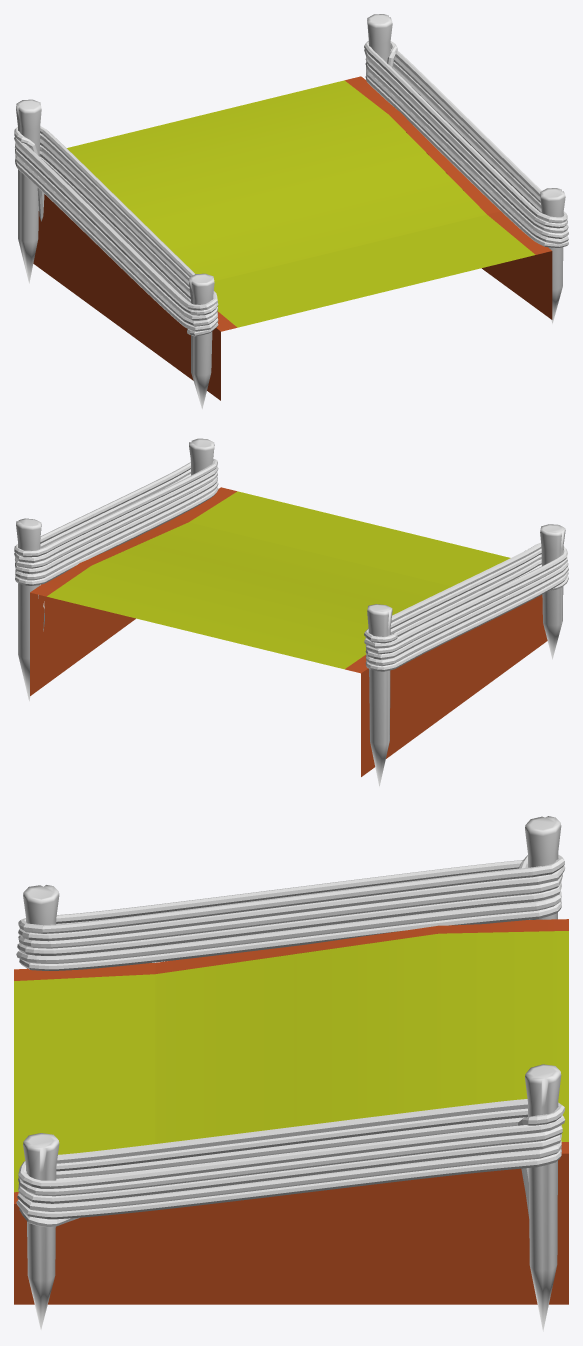
File: Straight_Up_Begin_End02.fbx
3 renders of one model, top to bottom at view 1: azimuth 30°, elevation 25°; view 2: azimuth 150°, elevation 25°; view 3: azimuth 270°, elevation 25°, orthographic. The views are drawn at different scales.
Visible parts, largest first — view 1: Cube.008, Cube.005, Cube.004, Cube.007; view 2: Cube.008, Cube.005, Cube.004, Cube.007; view 3: Cube.008, Cube.007, Cube.005, Cube.004.
Part boxes in pixels (x1,y1,x2,y2): Cube.008: [33, 76, 503, 364]; Cube.005: [172, 211, 552, 400]; Cube.004: [14, 99, 218, 409]; Cube.007: [364, 14, 568, 323]; Cube.008: [30, 519, 503, 776]; Cube.005: [174, 487, 547, 672]; Cube.004: [364, 524, 568, 786]; Cube.007: [14, 438, 218, 701]; Cube.008: [155, 919, 568, 1304]; Cube.007: [16, 1064, 565, 1331]; Cube.005: [14, 963, 155, 1304]; Cube.004: [16, 816, 565, 970].
Size of the model in its own units: 230 by 104 by 200.
